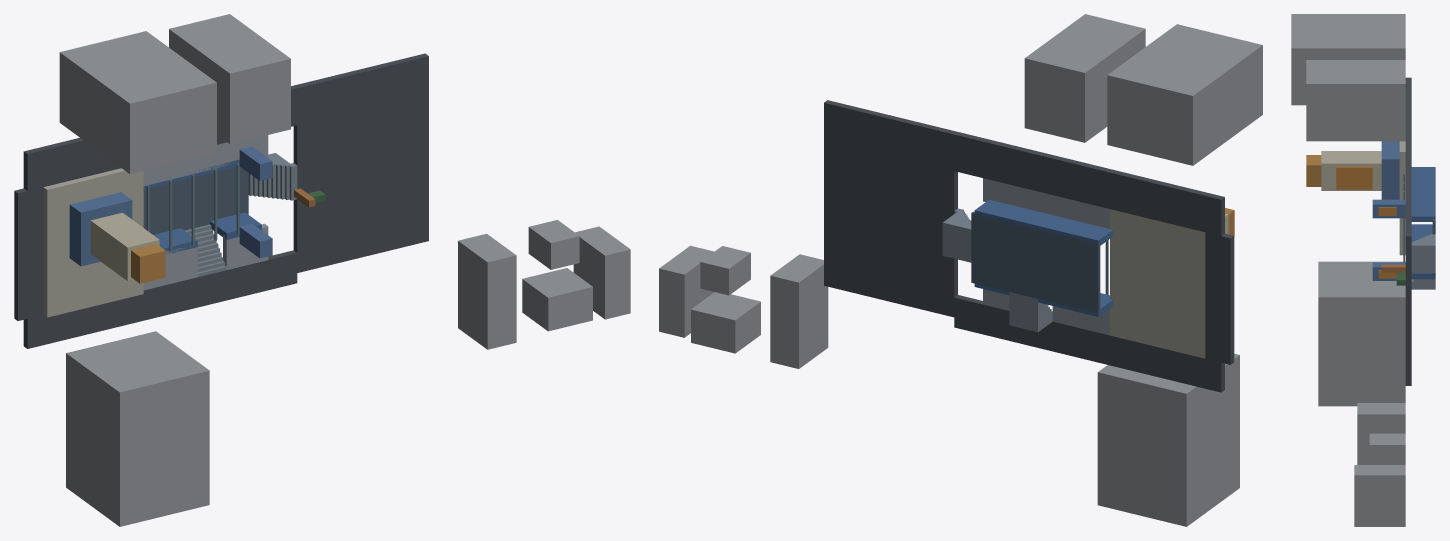
3 views of the same model, side by side, from view 1: azimuth 30°, elevation 25°; view 2: azimuth 150°, elevation 25°; view 3: azimuth 270°, elevation 25° (orthographic). The views are drawn at different scales.
Parts seen in each view (by area): view 1: east_plaza, south_block, north_block, north_east_block, south_plaza, museum_west_podium, east_small_a, museum_lower_floor, west_plaza, east_small_d, east_small_c, north_plaza (+9 smaller); view 2: east_plaza, south_block, north_block, museum_west_podium, north_plaza, north_east_block, museum_lower_floor, south_plaza, east_small_a, west_plaza, east_small_c, east_small_d (+4 smaller); view 3: south_block, north_east_block, north_block, east_small_d, east_small_a, west_core_tower, east_plaza, museum_north_lower_wall, east_small_b, west_core_base, west_core_gold_face, north_plaza (+7 smaller).
Part boxes in pixels (<box>): east_plaza: <box>293,53,428,272</box>; south_block: <box>66,331,209,526</box>; north_block: <box>59,31,216,174</box>; north_east_block: <box>169,14,290,144</box>; south_plaza: <box>23,250,297,348</box>; museum_west_podium: <box>43,168,143,317</box>; east_small_a: <box>458,233,516,349</box>; museum_lower_floor: <box>143,167,248,234</box>; west_plaza: <box>14,187,43,320</box>; east_small_d: <box>573,226,630,319</box>; east_small_c: <box>522,268,592,331</box>; north_plaza: <box>23,85,297,190</box>; east_plaza: <box>824,100,957,317</box>; south_block: <box>1097,353,1239,526</box>; north_block: <box>1107,24,1262,165</box>; museum_west_podium: <box>1110,209,1205,358</box>; north_plaza: <box>954,132,1224,235</box>; north_east_block: <box>1024,14,1145,142</box>; museum_lower_floor: <box>971,211,1100,313</box>; south_plaza: <box>954,295,1224,392</box>; east_small_a: <box>770,254,828,368</box>; west_plaza: <box>1205,232,1234,364</box>; east_small_c: <box>691,292,760,353</box>; east_small_d: <box>659,245,714,337</box>; south_block: <box>1318,261,1405,406</box>; north_east_block: <box>1306,60,1405,141</box>; north_block: <box>1291,14,1405,105</box>; east_small_d: <box>1354,465,1405,526</box>; east_small_a: <box>1357,403,1405,464</box>; west_core_tower: <box>1321,151,1381,190</box>; east_plaza: <box>1405,184,1411,385</box>; museum_north_lower_wall: <box>1411,167,1435,221</box>; east_small_b: <box>1369,433,1405,464</box>; west_core_base: <box>1381,141,1399,199</box>; west_core_gold_face: <box>1336,166,1372,189</box>; north_plaza: <box>1405,77,1411,184</box>.
Size of the model in its own units: 181 by 130 by 48.
